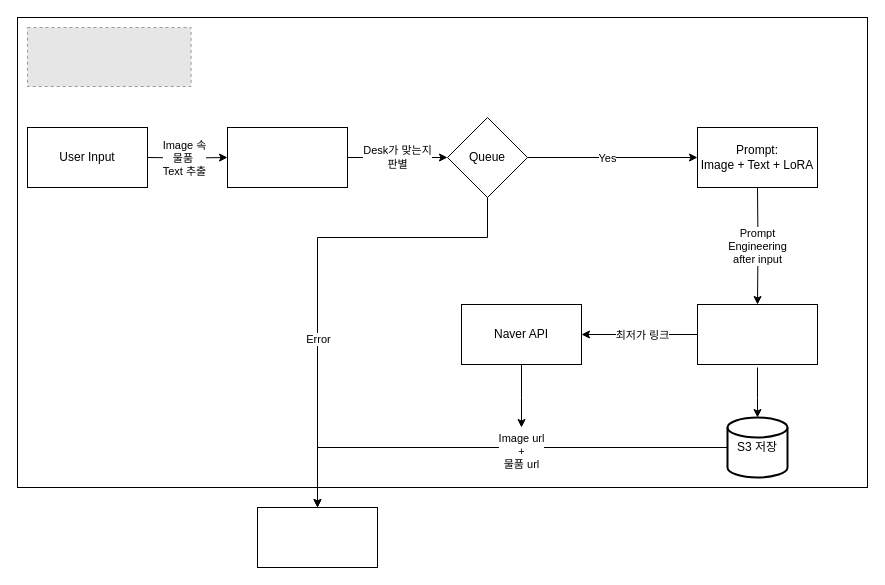
Some shapes in this 885 by 585 pixel diagram are drawn without their labels. Grey dashed boxes stand in for pictures. Each missing label, with the centre of its shape:
"BE" belongs at (317,537).
"Image to Text Model" belongs at (287,157).
"Stabel Diffusion Model Image + Text to Image" belongs at (757,334).
